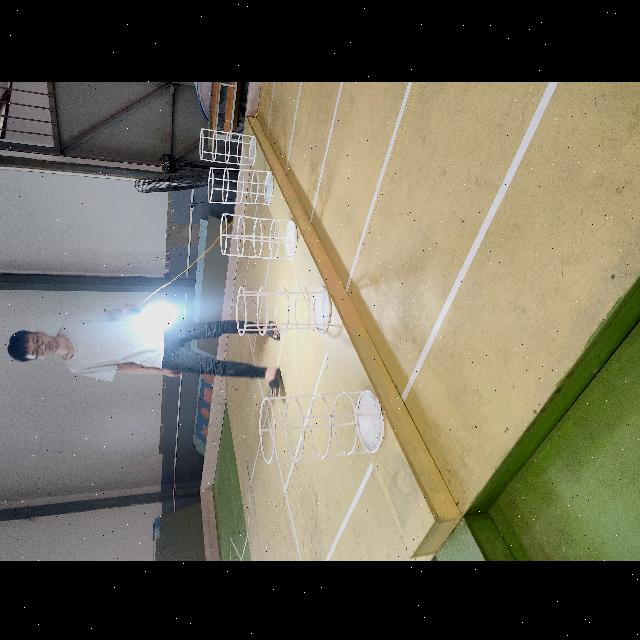S: (256, 387, 389, 463), (235, 283, 333, 336), (219, 211, 299, 260), (207, 165, 276, 204), (198, 124, 257, 166)
